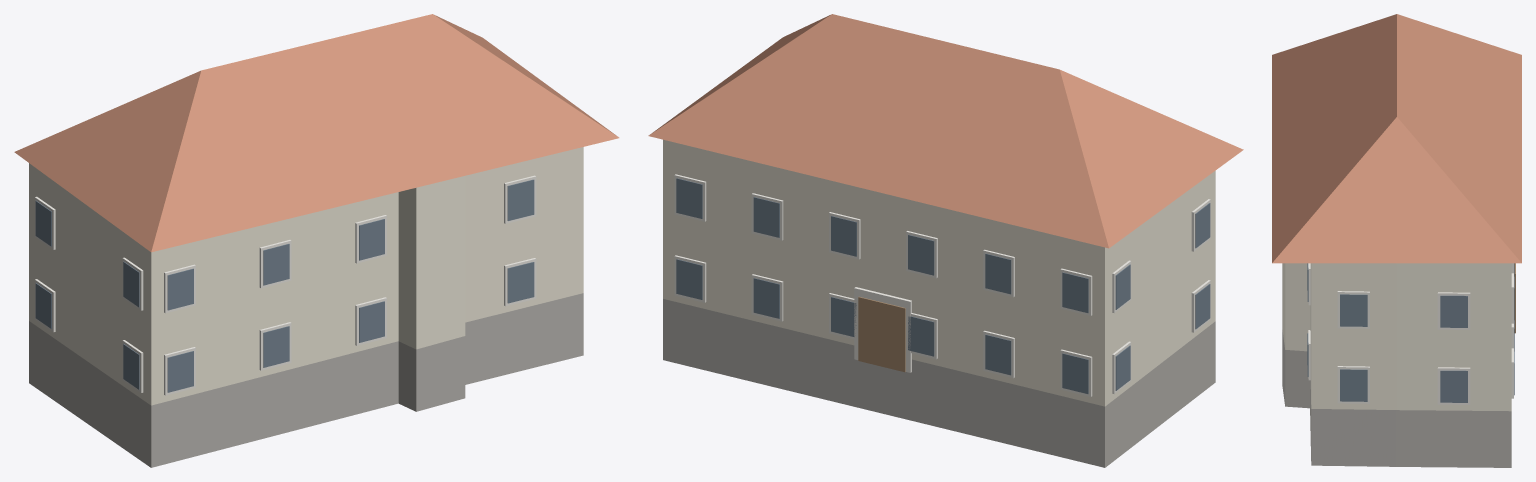
The model's file is civic-554351961.glb.
The picture shows the model from 3 angles, left to right: view 1: azimuth 30°, elevation 25°; view 2: azimuth 150°, elevation 25°; view 3: azimuth 270°, elevation 25°; orthographic projection. The views are drawn at different scales.
Parts seen in each view (by area): view 1: building; view 2: building; view 3: building.
Part boxes in pixels (x1,y1,x2,y2): building: (14,14,619,467); building: (648,14,1243,467); building: (1272,14,1521,467).
Bounding box in the file's own units: 19.66 × 13.32 × 9.96.
